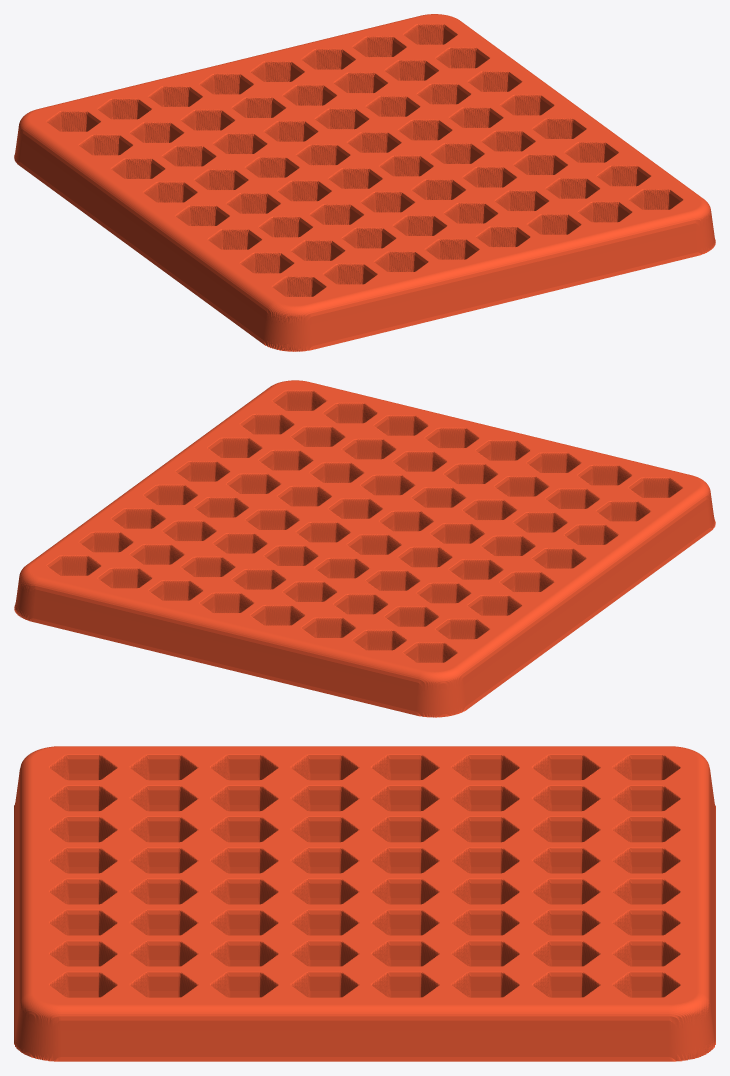
Rendered from mold.glb.
The picture shows the model from 3 angles, top to bottom: view 1: azimuth 30°, elevation 25°; view 2: azimuth 150°, elevation 25°; view 3: azimuth 270°, elevation 25°; orthographic projection. The views are drawn at different scales.
Parts seen in each view (by area): view 1: geometry_0; view 2: geometry_0; view 3: geometry_0.
Boxes of the visible parts, box(x1,y1,x2,y2) form: geometry_0: box(14, 14, 715, 351); geometry_0: box(14, 380, 715, 717); geometry_0: box(14, 746, 715, 1061).
Bounding box in the file's own units: 0.1247 × 0.0105 × 0.1355.
